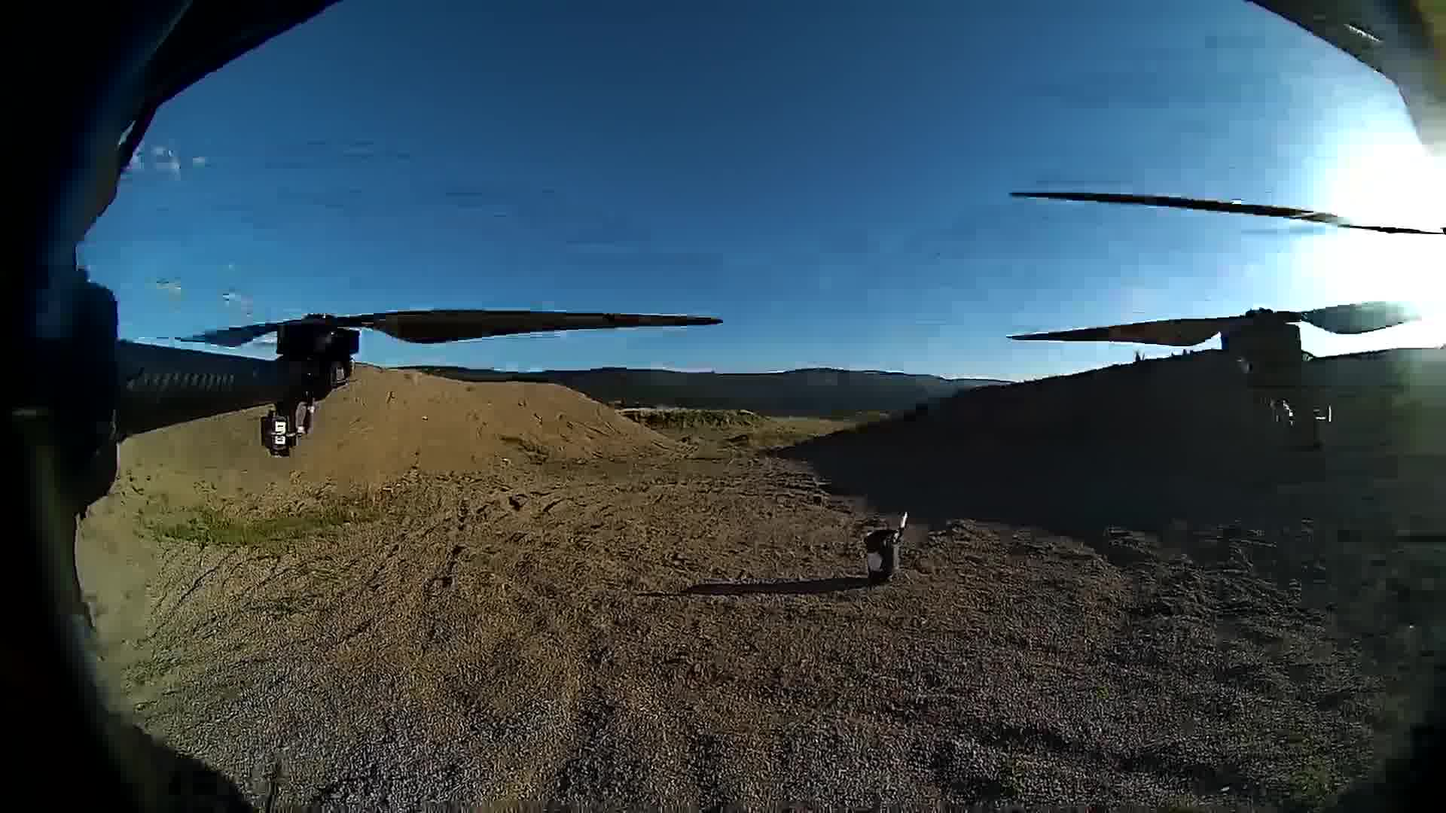Target: (866, 554, 883, 570)
